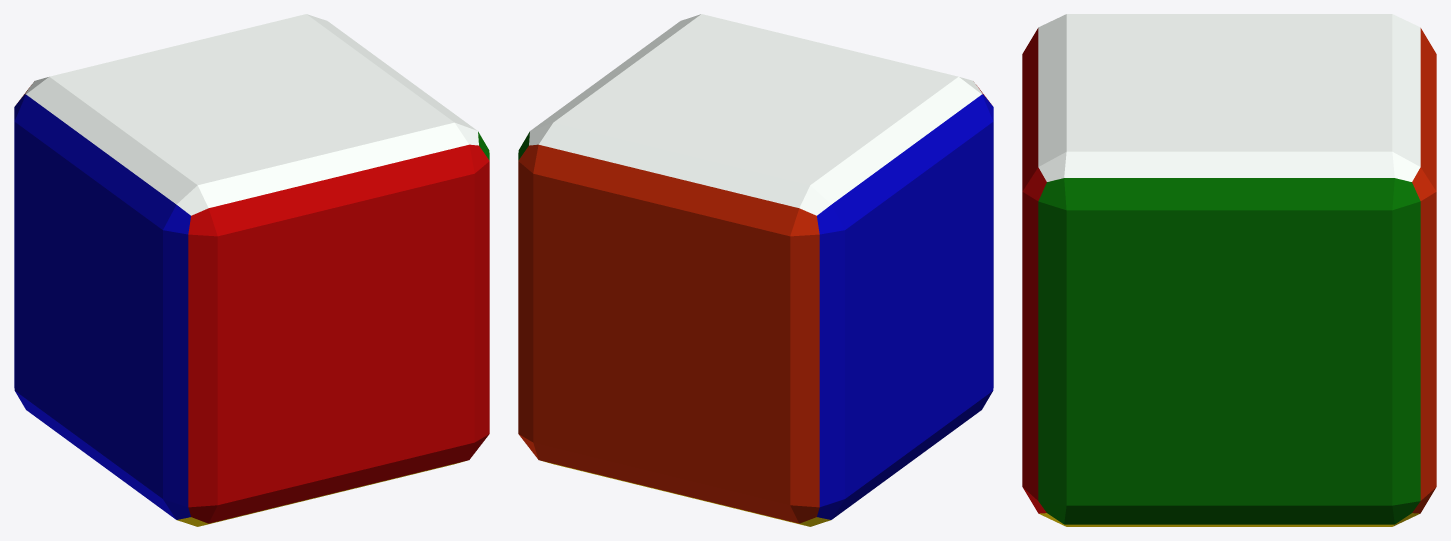
Rendered from cube_rubik.obj.
3 renders of one model, left to right at view 1: azimuth 30°, elevation 25°; view 2: azimuth 150°, elevation 25°; view 3: azimuth 270°, elevation 25°, orthographic. The views are drawn at different scales.
Parts seen in each view (by area): view 1: Cube; view 2: Cube; view 3: Cube.
Boxes of the visible parts, bbox=[...] form: Cube: bbox=[14, 14, 489, 526]; Cube: bbox=[518, 14, 993, 526]; Cube: bbox=[1022, 14, 1436, 526].
Size of the model in its own units: 66 by 66 by 66.
